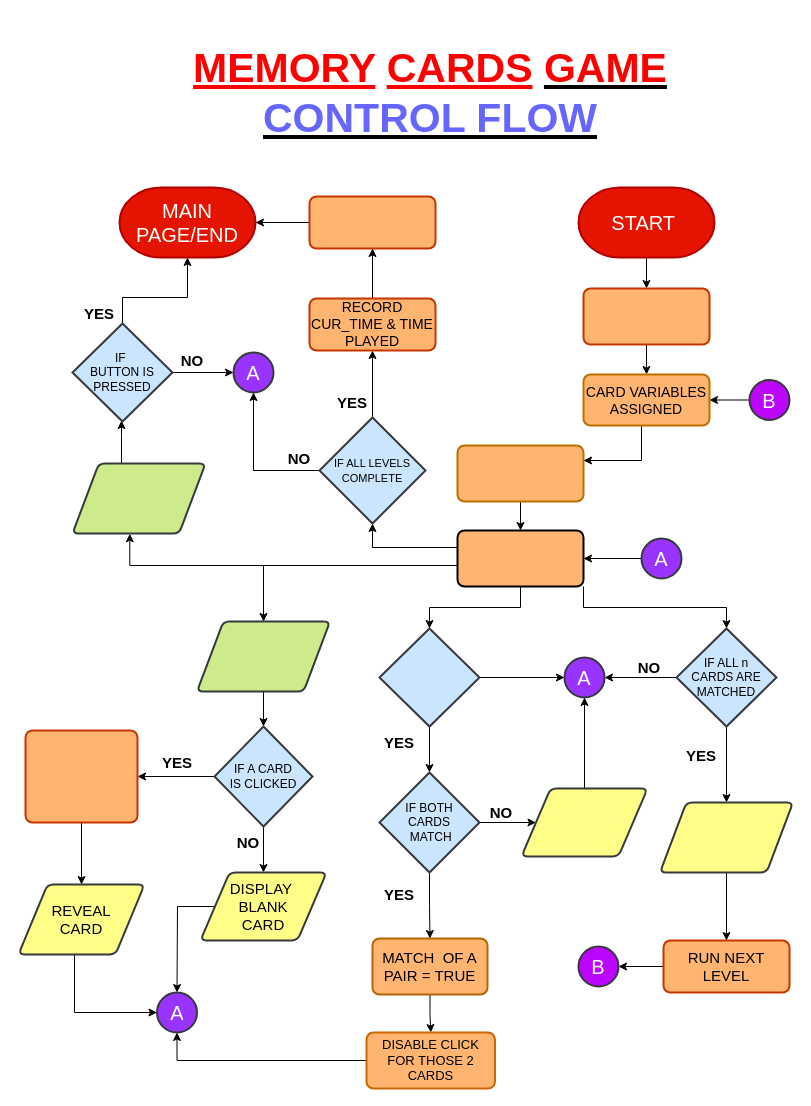
Some shapes in this 811 by 1106 pixel diagram are drawn without their labels. The box of each missing label's shape, as (x1, y1, x2, y2) in pixels:
APPEND DATA TO MYSQL TABLE: (308, 195, 436, 249)
CLICK: (196, 620, 330, 692)
CLICK VARIABLE OF THAT CARD = TRUE: (24, 729, 138, 823)
DISPLAY BLANK CARDS: (520, 787, 648, 857)
DISPLAY COMPLEMET/ MESSAGE: (658, 801, 794, 873)
DISPLAY n BLANK CARDS: (456, 444, 584, 502)
IF TWO CARDS ARE CLICKED: (378, 627, 480, 727)
INITIALISE PYGAME WINDOW: (582, 287, 710, 345)
QUIT/BACK BUTTON: (71, 462, 206, 534)
WHILE TRUE LOOP: (456, 529, 584, 587)
